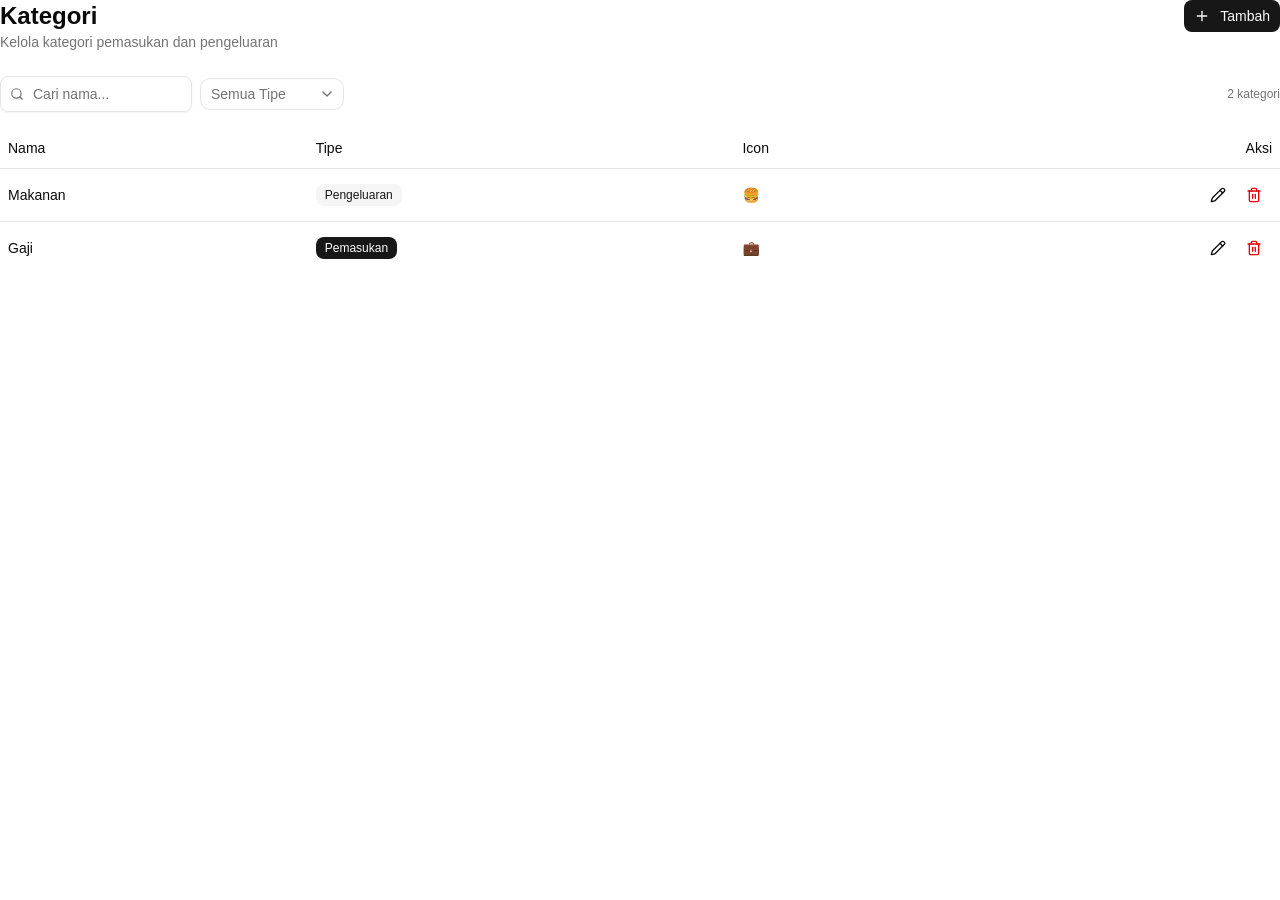
Test: CategoriesPage › opens create dialog on Tambah click
Expected: the text "Makanan" is shown, [0,168,308,221]
Step 1. Click the button "Tambah" → {"x": 1232, "y": 16}, box [1184,0,1279,32]
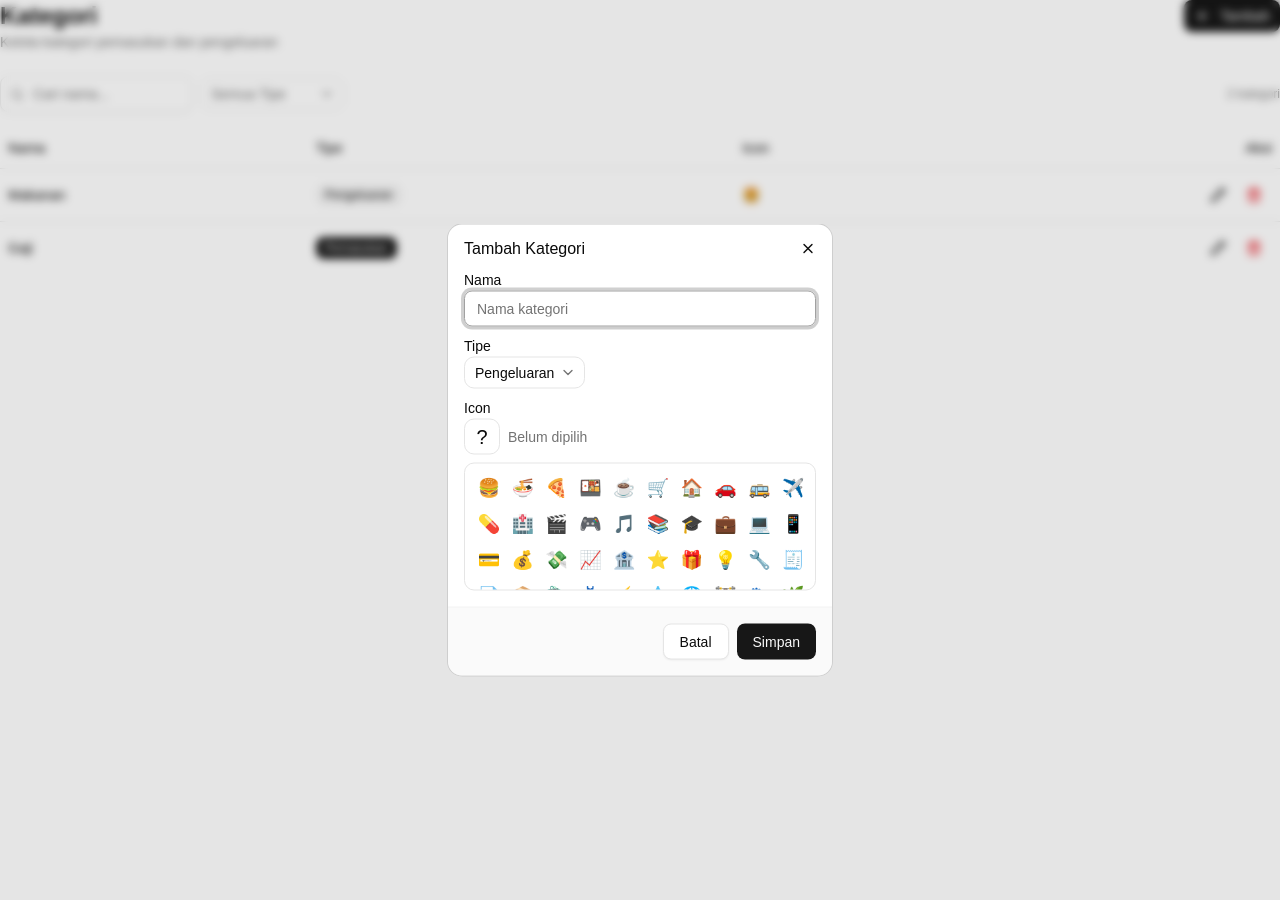
Now the heading "Tambah Kategori" is shown, box [464,240,585,256]
